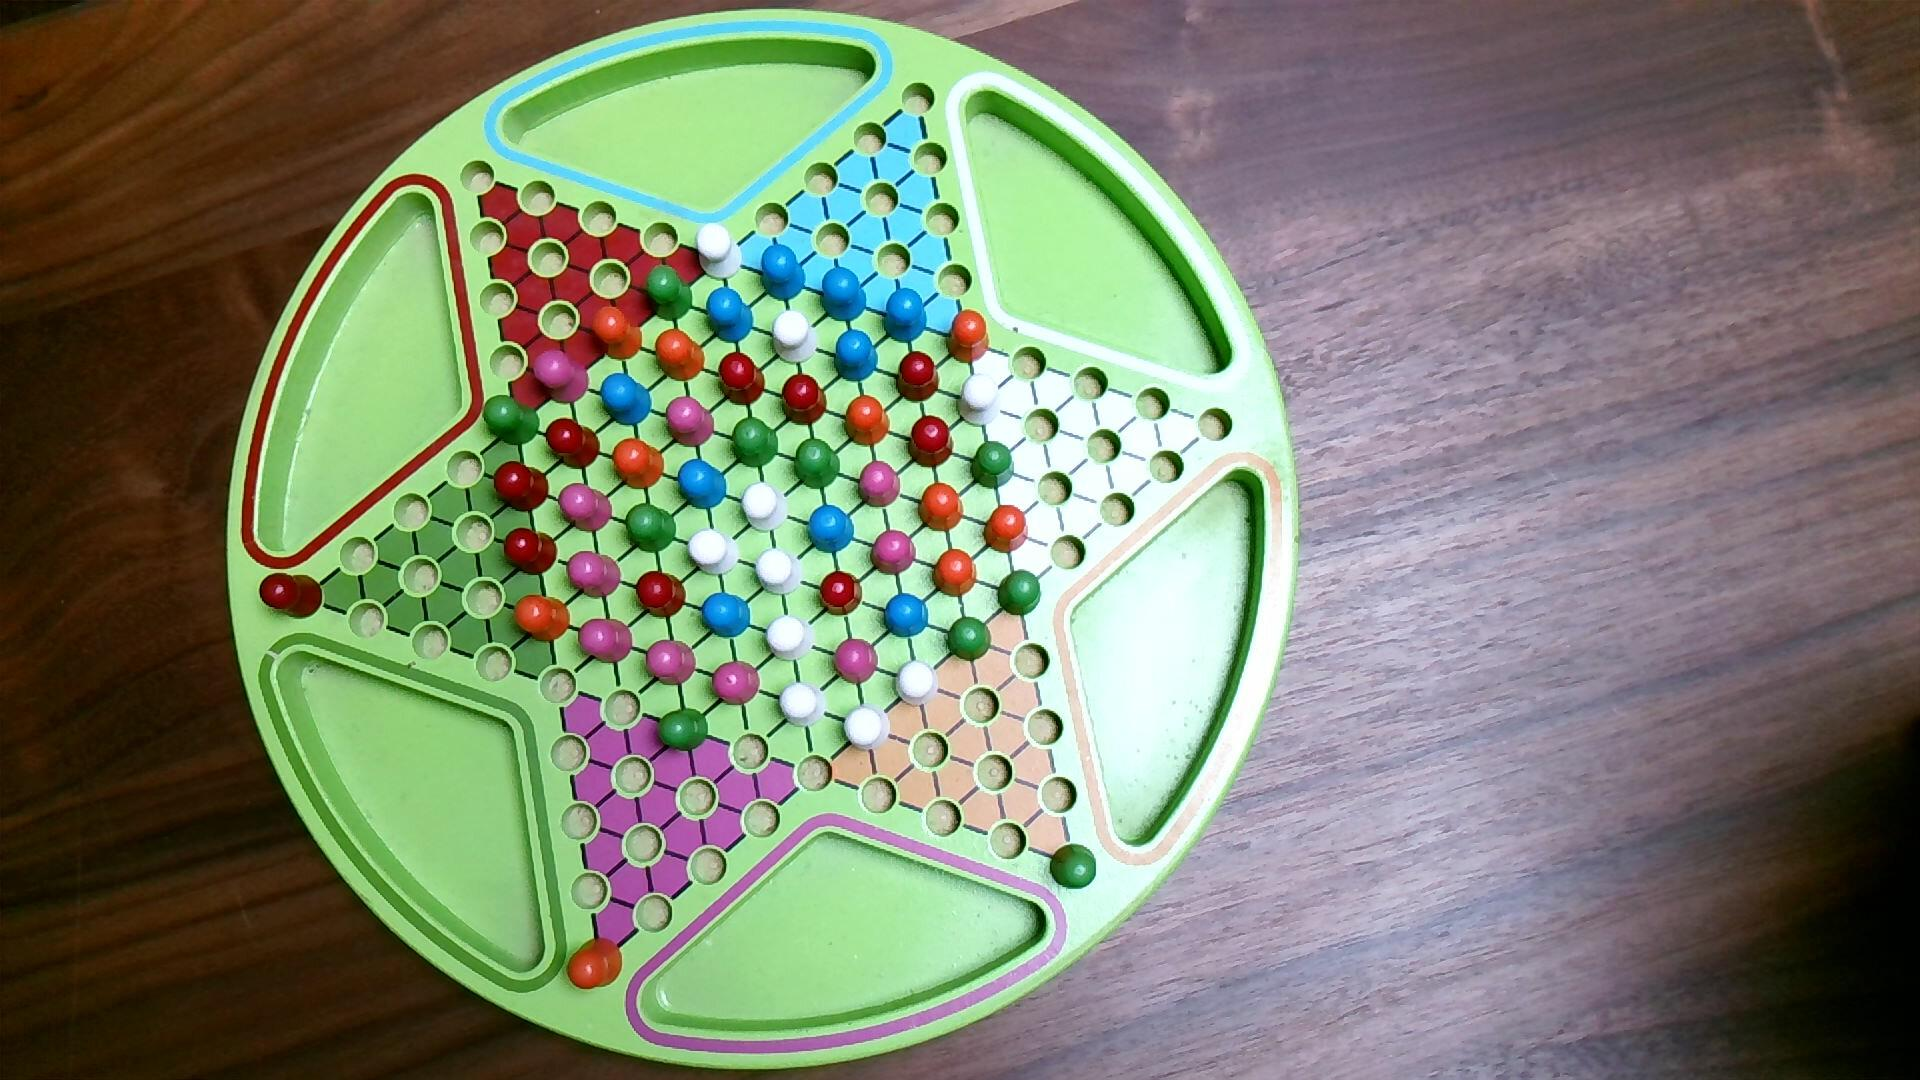B: (758, 243, 808, 305), (600, 372, 654, 429), (704, 286, 756, 345), (819, 264, 869, 324), (676, 458, 729, 512), (699, 591, 753, 642), (881, 287, 928, 345), (833, 328, 881, 385), (806, 502, 856, 555), (881, 591, 931, 640)
G: (481, 393, 542, 448), (642, 262, 696, 324), (622, 501, 679, 556), (793, 436, 843, 493), (731, 415, 781, 469), (655, 705, 711, 754), (1048, 843, 1098, 891), (945, 616, 994, 665), (996, 568, 1043, 618), (971, 440, 1015, 492)
O: (564, 935, 626, 992), (589, 305, 645, 363), (513, 592, 574, 645), (611, 436, 667, 492), (653, 328, 707, 384), (843, 393, 893, 448), (945, 309, 992, 367), (916, 483, 965, 534), (982, 504, 1030, 556), (931, 549, 978, 600)
R: (491, 458, 553, 517), (257, 570, 326, 622), (542, 415, 603, 473), (502, 524, 560, 579), (715, 351, 767, 409), (633, 568, 688, 622), (905, 413, 956, 469), (779, 371, 829, 429), (893, 349, 942, 405), (815, 568, 865, 618)
R2: (531, 349, 592, 406), (556, 483, 615, 534), (564, 550, 624, 600), (578, 618, 636, 666), (665, 396, 716, 448), (644, 640, 699, 688), (709, 659, 762, 708), (832, 637, 881, 688), (869, 527, 918, 578), (856, 459, 902, 512)
W: (694, 220, 745, 284), (769, 309, 820, 367), (738, 480, 791, 535), (686, 527, 742, 578), (955, 372, 1004, 429), (764, 613, 816, 665), (891, 657, 942, 709), (778, 679, 828, 731), (843, 702, 893, 753), (754, 546, 804, 597)
